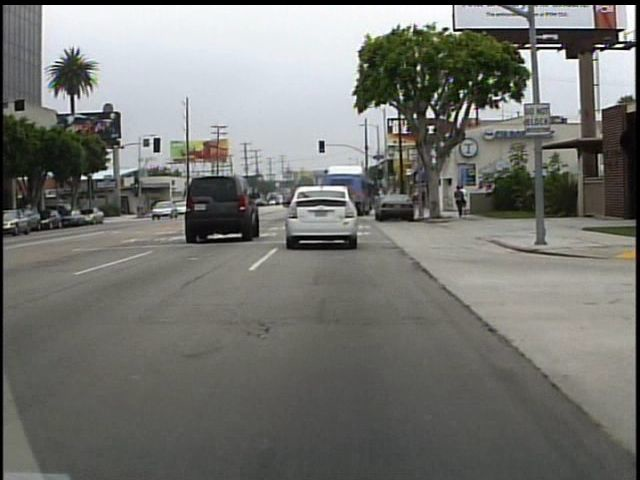person: (452, 185, 467, 223), (460, 183, 470, 217)
